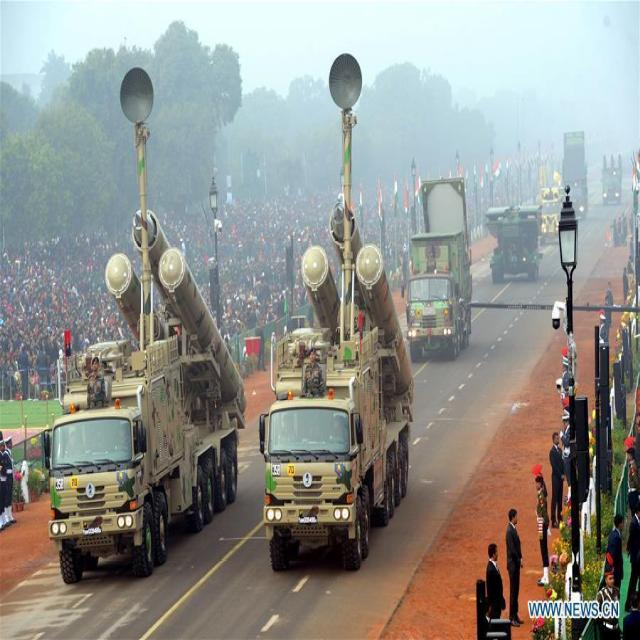Tanks: (484, 202, 546, 292)
